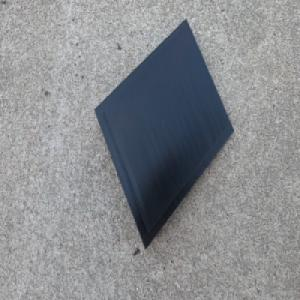PlasticPart: (93, 18, 234, 250)
